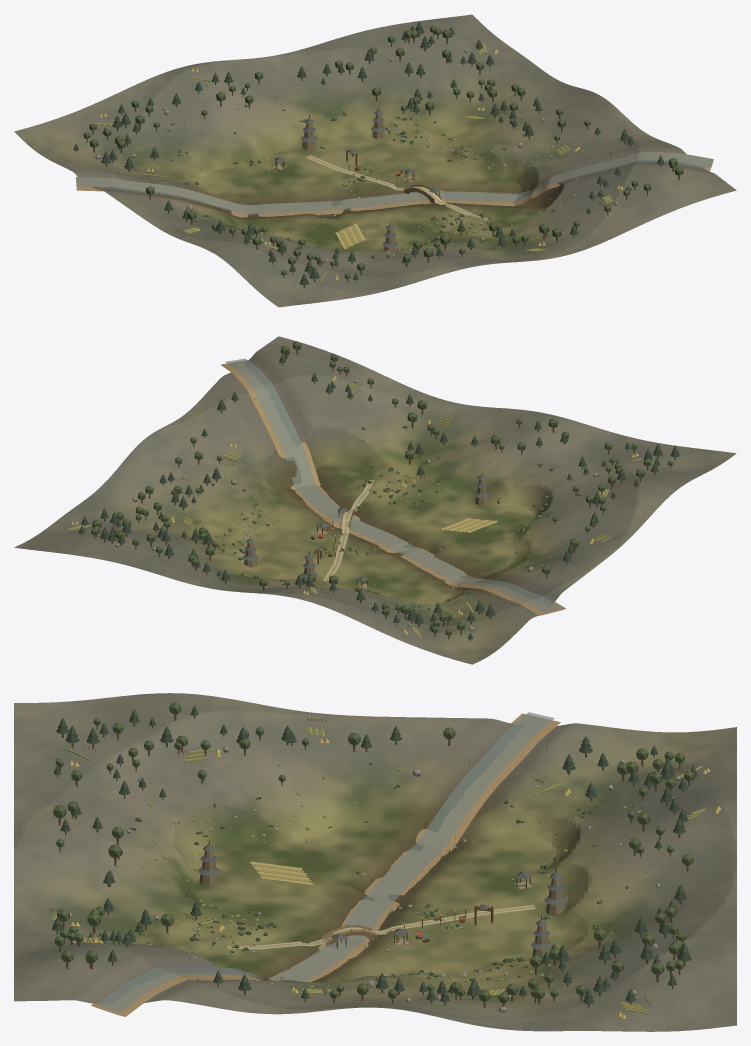
The model's file is world_env.glb.
The picture shows the model from 3 angles, top to bottom: view 1: azimuth 30°, elevation 25°; view 2: azimuth 150°, elevation 25°; view 3: azimuth 270°, elevation 25°; orthographic projection. The views are drawn at different scales.
Visible parts, largest first — view 1: terrain, props; view 2: terrain, props; view 3: terrain, props.
Boxes of the visible parts, <box> form: terrain: <box>14,14,736,307</box>; props: <box>73,21,713,288</box>; terrain: <box>14,336,736,664</box>; props: <box>67,341,679,641</box>; terrain: <box>14,693,736,1031</box>; props: <box>47,702,720,1018</box>.
Size of the model in its own units: 215 by 31.05 by 200.
